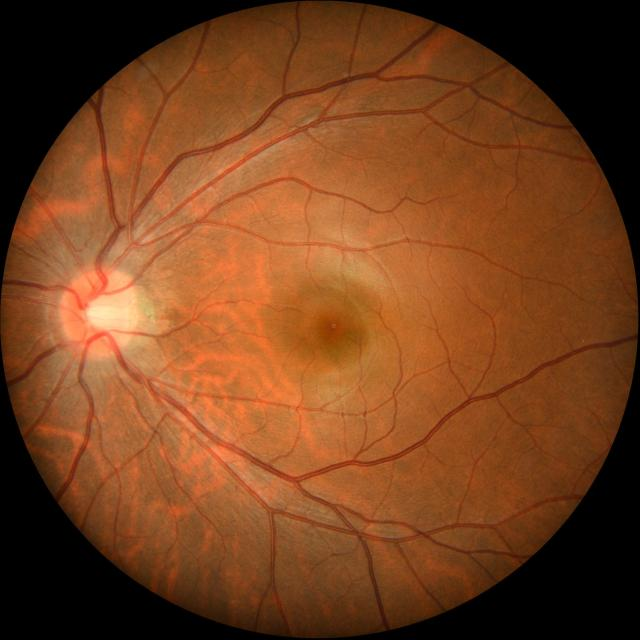OC: (86, 294, 121, 334)
OD: (62, 268, 136, 357)
